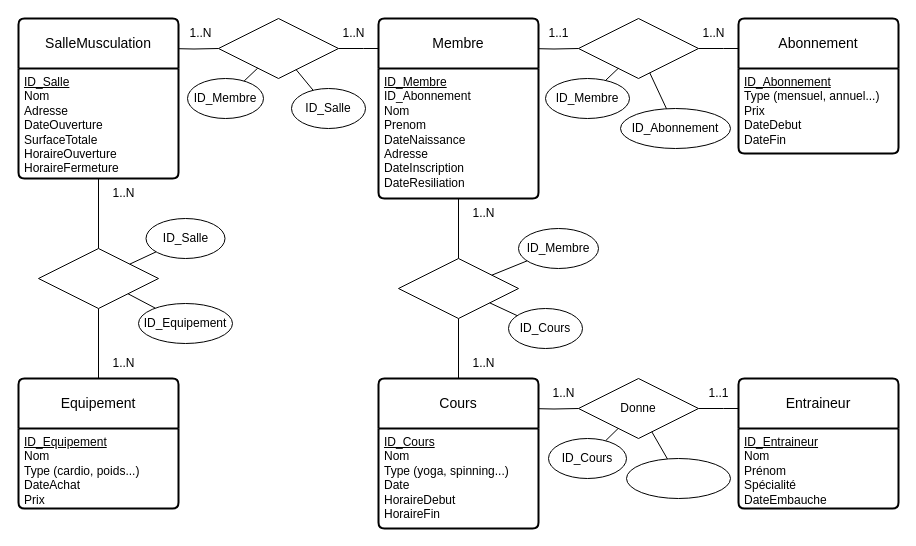
Some shapes in this 916 by 546 pixel diagram are drawn without their labels. Each missing label, with the centre of its shape:
"EstEquipeDe" goes at point (98, 278).
"EstMembreDe" goes at point (278, 48).
"ID_Entraineur" goes at point (678, 478).
"Participe" goes at point (458, 288).
"Possede" goes at point (638, 48).
